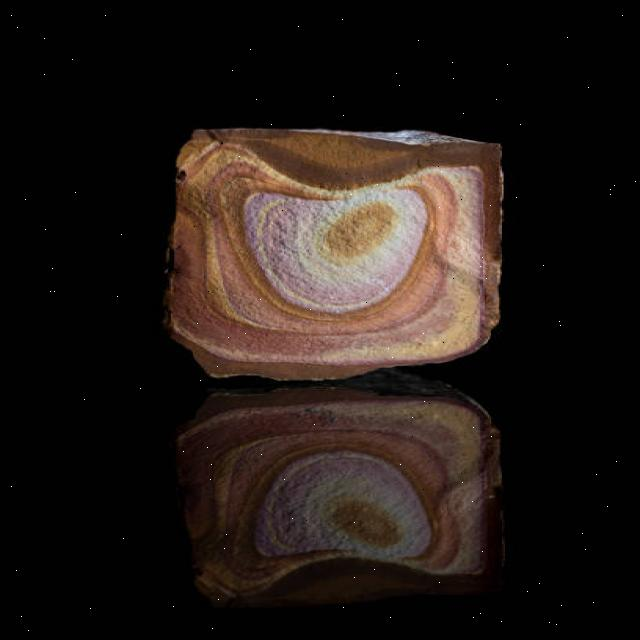Sedimentary: (163, 115, 518, 386)
